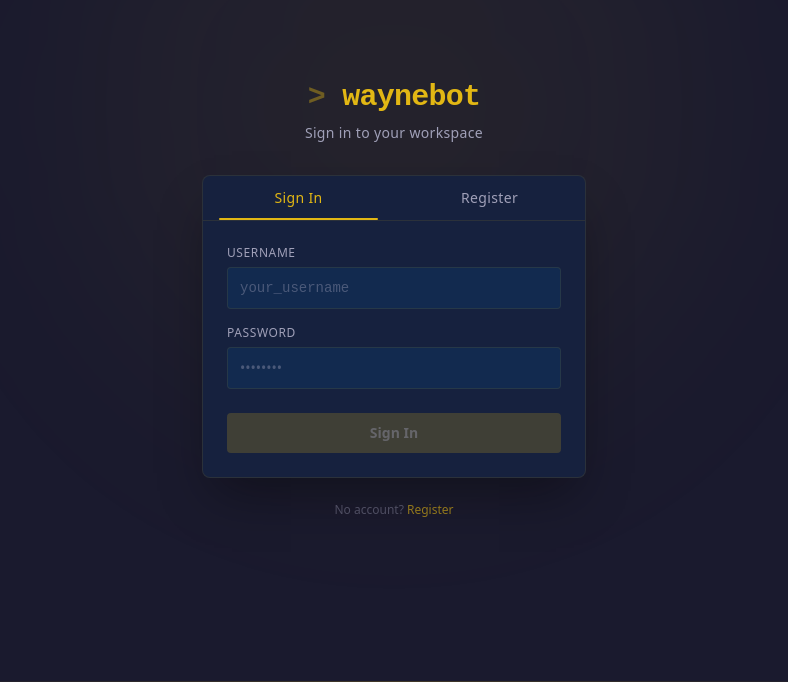
LoginPage › displays error on register failure
Click the button with test id "tab-register": [490, 198] box [394, 176, 585, 220]
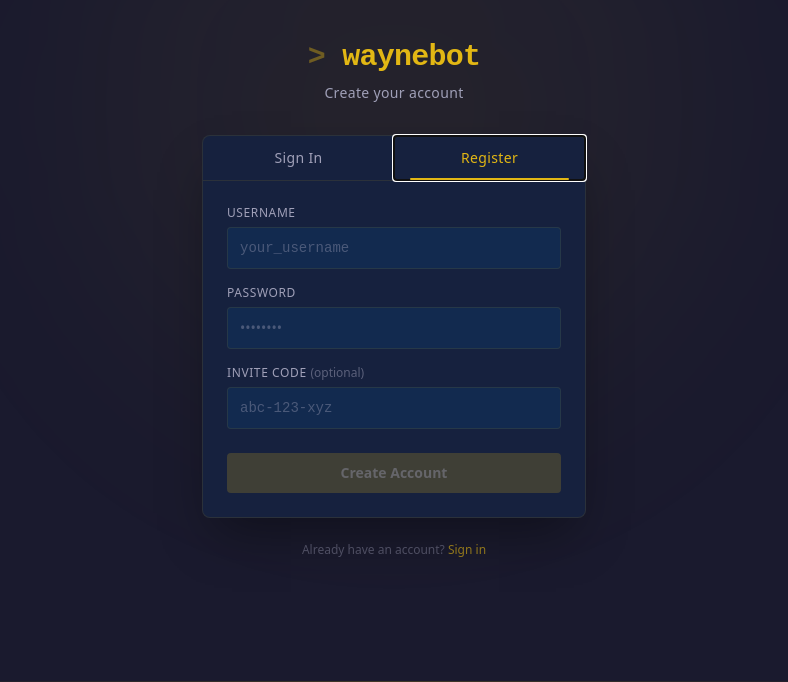
In the field labelled "Username": [394, 248] box [227, 226, 561, 268], type "alice"
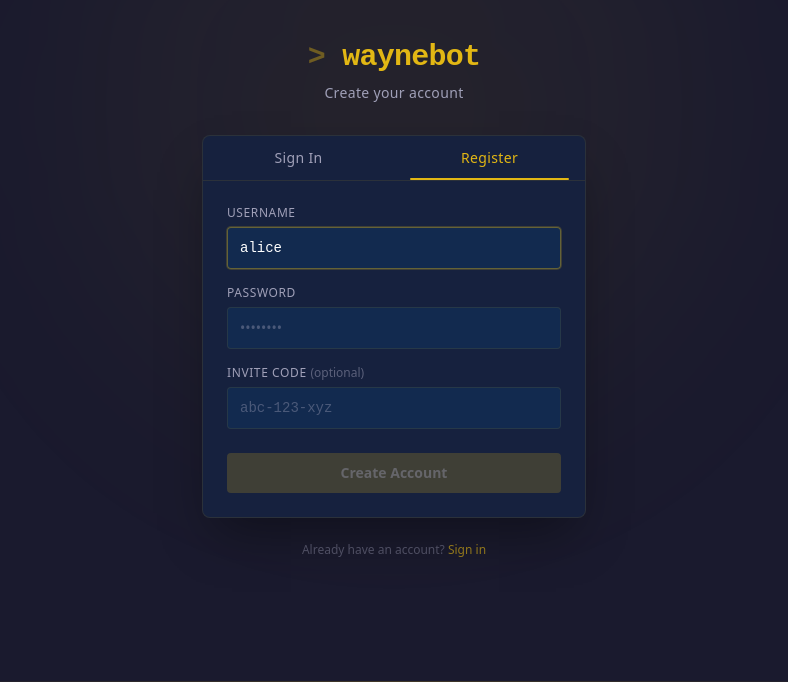
In the password field labelled "Password": [394, 328] box [227, 306, 561, 348], type "password123"
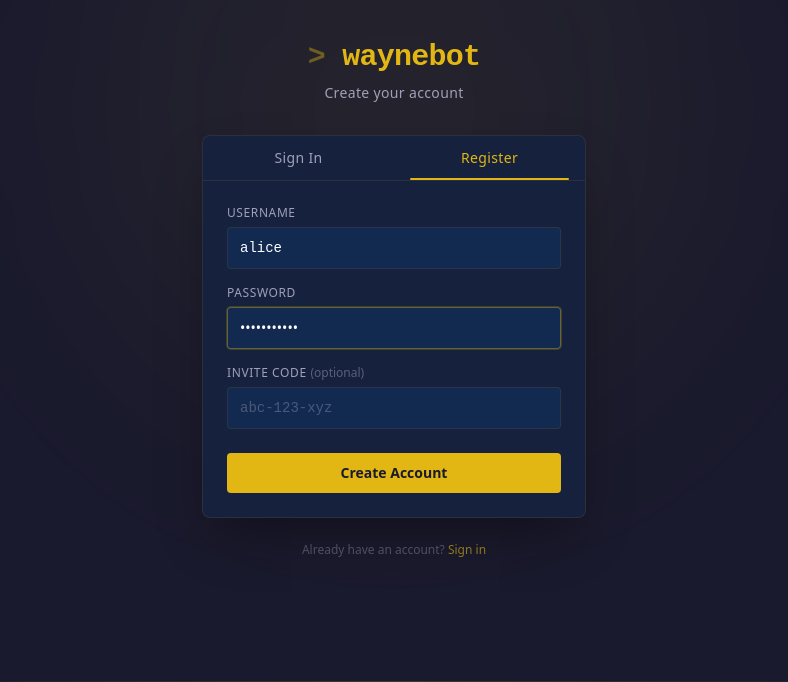
Click the submit button: [394, 472] box [227, 452, 561, 492]
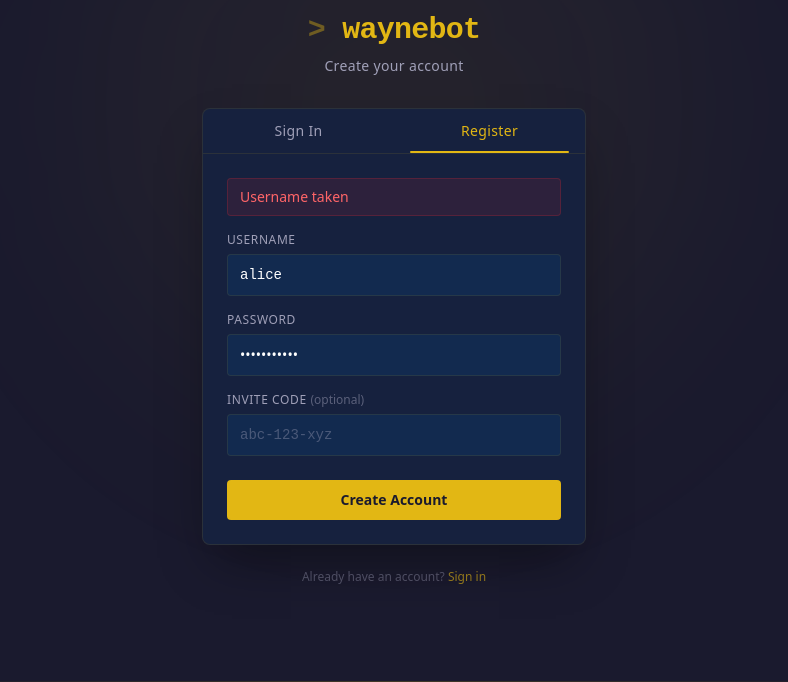
Now the message reads "Username taken", box [240, 186, 349, 206]
